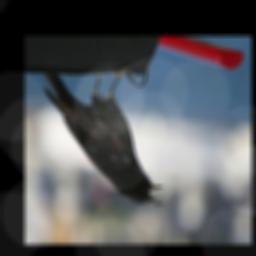Crow: (41, 63, 165, 209)
